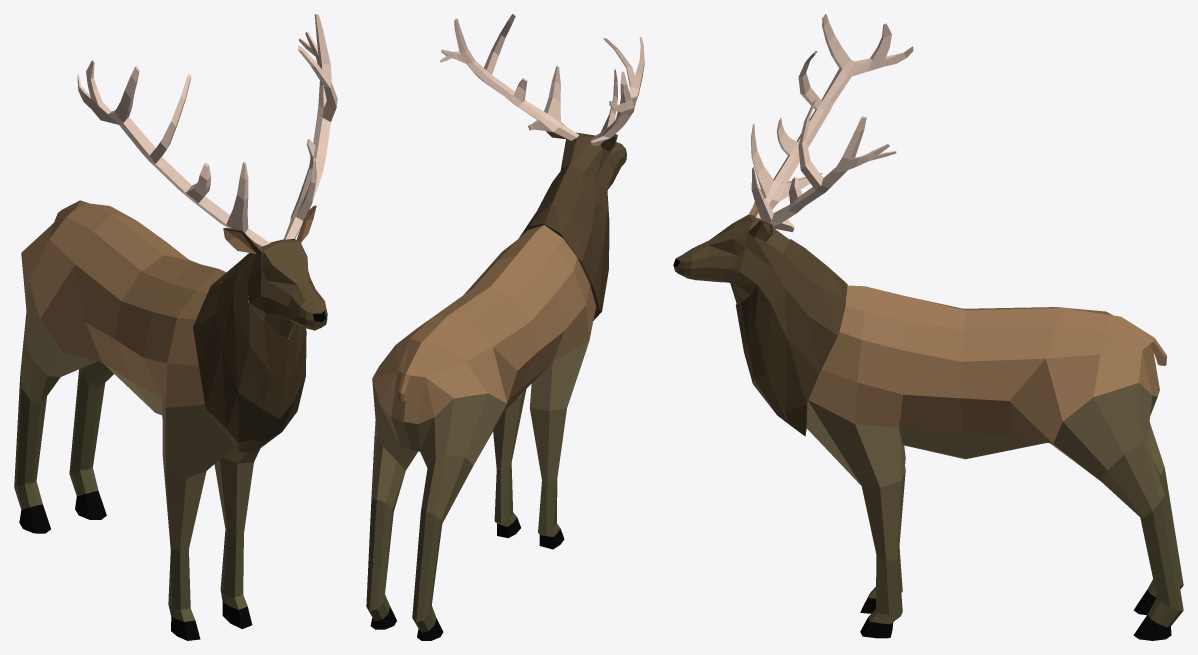
Rendered from Deer-bLT2gJHPPt.glb.
3 renders of one model, left to right at view 1: azimuth 30°, elevation 25°; view 2: azimuth 150°, elevation 25°; view 3: azimuth 270°, elevation 25°, orthographic. The views are drawn at different scales.
Parts seen in each view (by area): view 1: 09deerFinal; view 2: 09deerFinal; view 3: 09deerFinal.
Boxes of the visible parts, x1,y1,x2,y2 form: 09deerFinal: (14, 14, 337, 640); 09deerFinal: (366, 14, 644, 640); 09deerFinal: (673, 14, 1183, 640).
Bounding box in the file's own units: 1.04 × 2.72 × 2.24.
1 material, 1 textured.
